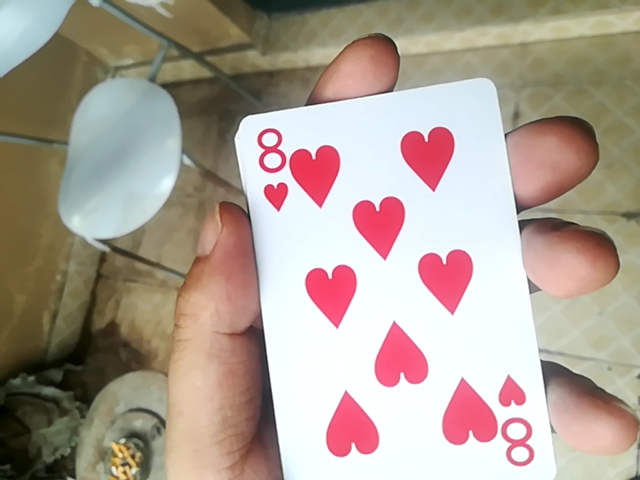hx 8: (244, 72, 555, 480)
